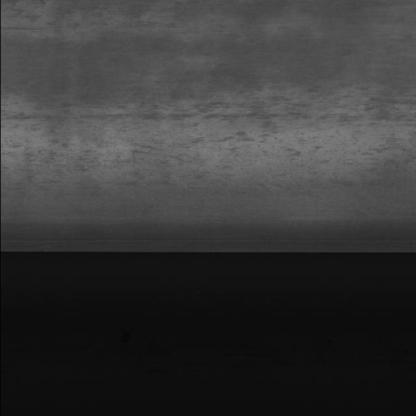silk_spot: (104, 108, 214, 183)
